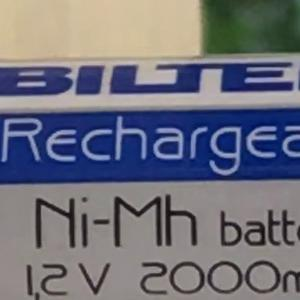keyword: (25, 184, 207, 259)
